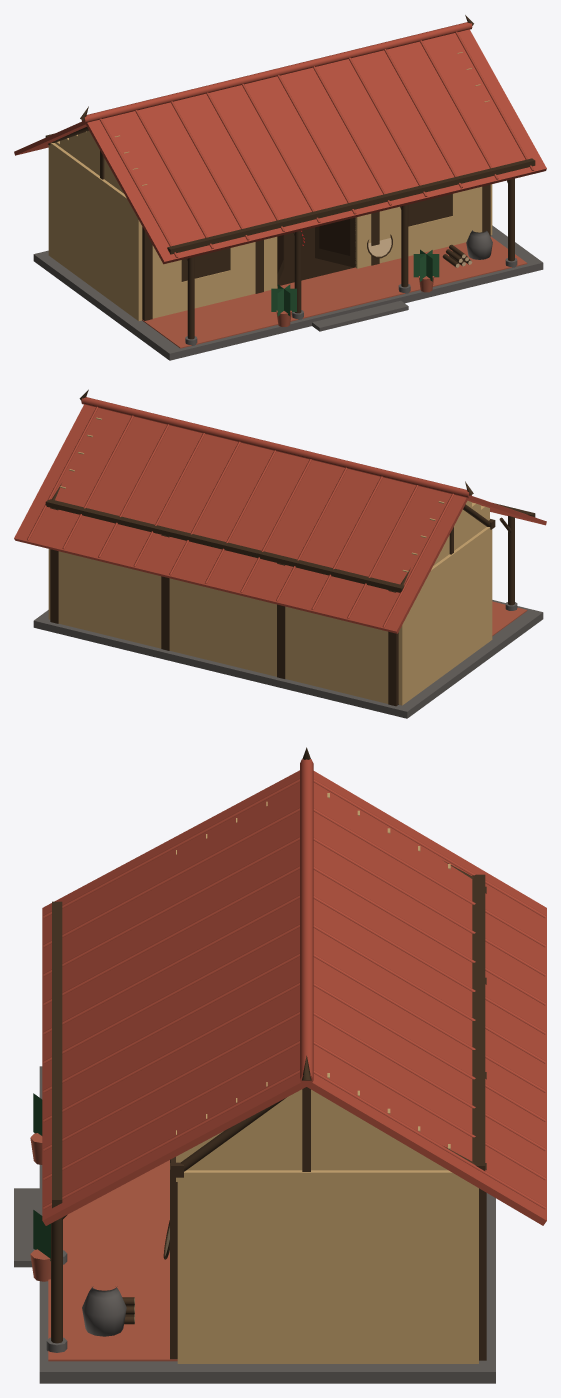
File: farmhouse.glb
The picture shows the model from 3 angles, top to bottom: view 1: azimuth 30°, elevation 25°; view 2: azimuth 150°, elevation 25°; view 3: azimuth 270°, elevation 25°; orthographic projection. The views are drawn at different scales.
Visible parts, largest first — view 1: Mesh_RoofFront, Mesh_WallRight, Mesh_VerandaFloor, Mesh_Base, Mesh_RoofRidgeBeam, Mesh_VerandaBeam, Mesh_WallF_RMid, Mesh_WallF_LMid, Mesh_InteriorFloor, Mesh_WallF_Right, Mesh_WallF_Left, Mesh_WallF_LWinBot (+28 smaller); view 2: Mesh_RoofBack, Mesh_WallBack, Mesh_WallRight, Mesh_Base, Mesh_RoofRidgeBeam, Mesh_HeaderBeamB, Mesh_Col_7, Mesh_Col_4, Mesh_Col_5, Mesh_Col_6, Mesh_VerandaFloor, Mesh_VerandaCol_3 (+12 smaller); view 3: Mesh_RoofFront, Mesh_RoofBack, Mesh_WallLeft, Mesh_VerandaFloor, Mesh_Base, Mesh_RoofRidgeBeam, Mesh_HeaderBeamB, Mesh_VerandaBeam, Mesh_GablePlasterL_6, Mesh_GablePlasterL_4, Mesh_GablePlasterL_5, Mesh_WaterJar (+32 smaller).
Part boxes in pixels (box(x1,y1,x2,y2)): Mesh_RoofFront: box(85, 29, 546, 264); Mesh_WallRight: box(48, 143, 142, 321); Mesh_VerandaFloor: box(142, 236, 527, 348); Mesh_Base: box(33, 225, 543, 360); Mesh_RoofRidgeBeam: box(81, 22, 472, 123); Mesh_VerandaBeam: box(167, 158, 535, 254); Mesh_WallF_RMid: box(230, 236, 277, 299); Mesh_WallF_LMid: box(355, 206, 401, 268); Mesh_InteriorFloor: box(277, 227, 353, 285); Mesh_WallF_Right: box(152, 245, 181, 318); Mesh_WallF_Left: box(452, 186, 482, 245); Mesh_WallF_LWinBot: box(408, 216, 452, 256); Mesh_RoofBack: box(14, 404, 467, 633); Mesh_WallBack: box(58, 551, 388, 703); Mesh_WallRight: box(398, 527, 492, 705); Mesh_Base: box(33, 600, 543, 718); Mesh_RoofRidgeBeam: box(81, 397, 471, 498); Mesh_HeaderBeamB: box(45, 499, 404, 592); Mesh_Col_7: box(388, 590, 398, 706); Mesh_Col_4: box(50, 507, 58, 623); Mesh_Col_5: box(161, 535, 169, 650); Mesh_Col_6: box(277, 563, 285, 678); Mesh_VerandaFloor: box(492, 601, 527, 636); Mesh_VerandaCol_3: box(508, 516, 514, 605); Mesh_RoofFront: box(42, 770, 306, 1225); Mesh_RoofBack: box(306, 771, 546, 1225); Mesh_WallLeft: box(177, 1170, 478, 1363); Mesh_VerandaFloor: box(48, 1160, 177, 1361); Mesh_Base: box(39, 1066, 495, 1383); Mesh_RoofRidgeBeam: box(300, 759, 313, 1086); Mesh_HeaderBeamB: box(472, 874, 485, 1170); Mesh_VerandaBeam: box(52, 901, 62, 1208); Mesh_GablePlasterL_6: box(266, 1082, 299, 1170); Mesh_GablePlasterL_4: box(326, 1090, 359, 1170); Mesh_GablePlasterL_5: box(296, 1073, 329, 1170); Mesh_WaterJar: box(82, 1286, 126, 1336).
Bounding box in the file's own units: 8.84 × 4.23 × 6.19.
